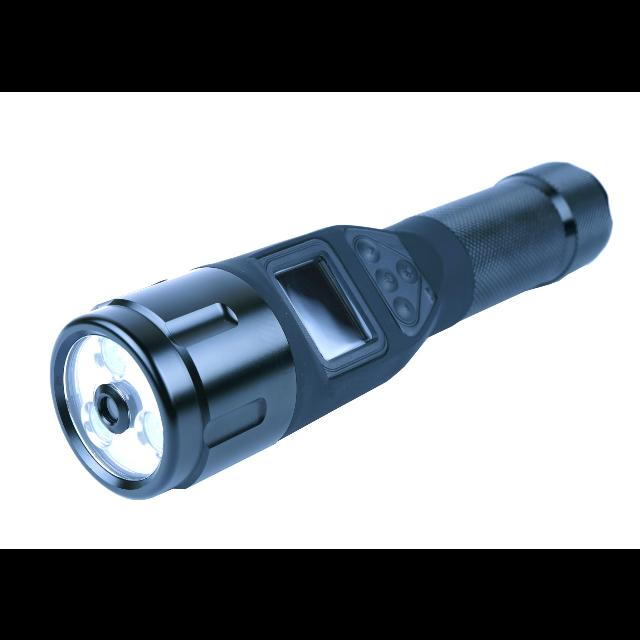Flashlight: (42, 155, 618, 508)
